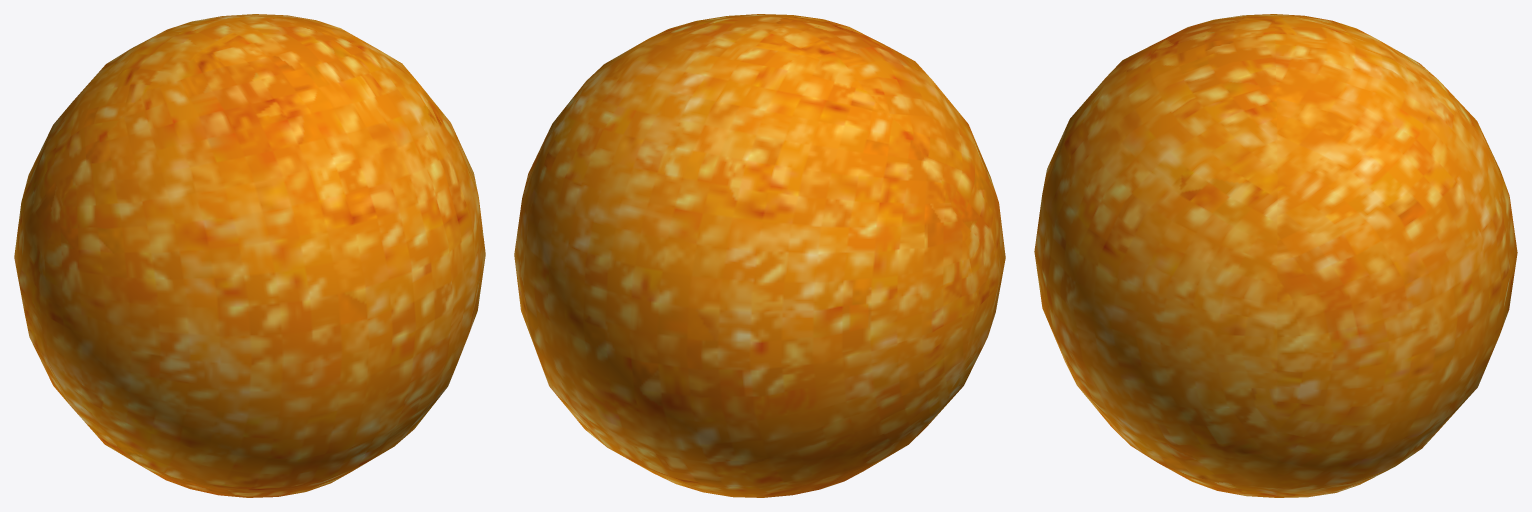
Rendered from BFSesameBall.glb.
3 renders of one model, left to right at view 1: azimuth 30°, elevation 25°; view 2: azimuth 150°, elevation 25°; view 3: azimuth 270°, elevation 25°, orthographic.
Parts seen in each view (by area): view 1: zhimaqiu; view 2: zhimaqiu; view 3: zhimaqiu.
Boxes of the visible parts, x1,y1,x2,y2 form: zhimaqiu: (14, 14, 485, 497); zhimaqiu: (514, 14, 1005, 497); zhimaqiu: (1034, 14, 1517, 497).
Size of the model in its own units: 0.7146 by 0.7127 by 0.7121.
1 material, 1 textured.
